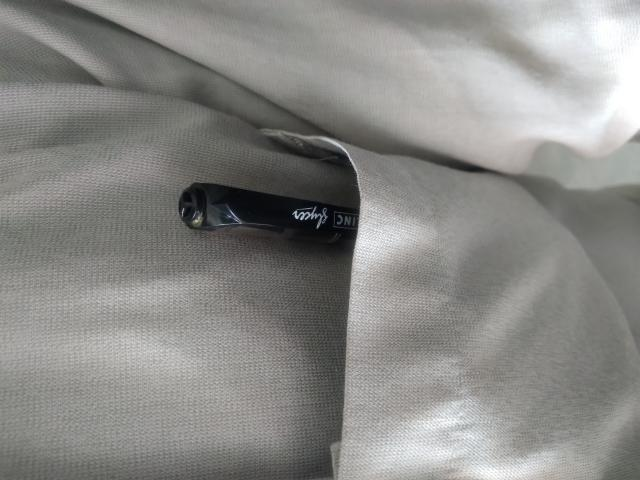PEN: (225, 163, 314, 385)
